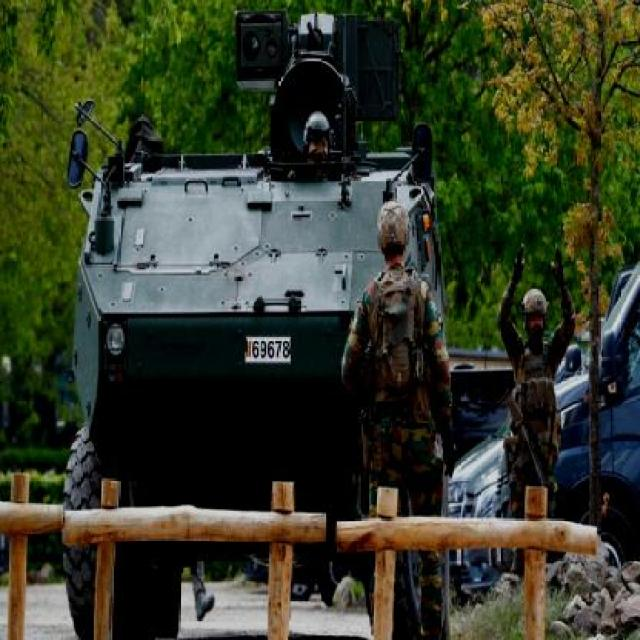MIL_Pax: (338, 201, 458, 639), (498, 235, 576, 577), (293, 109, 333, 173)
